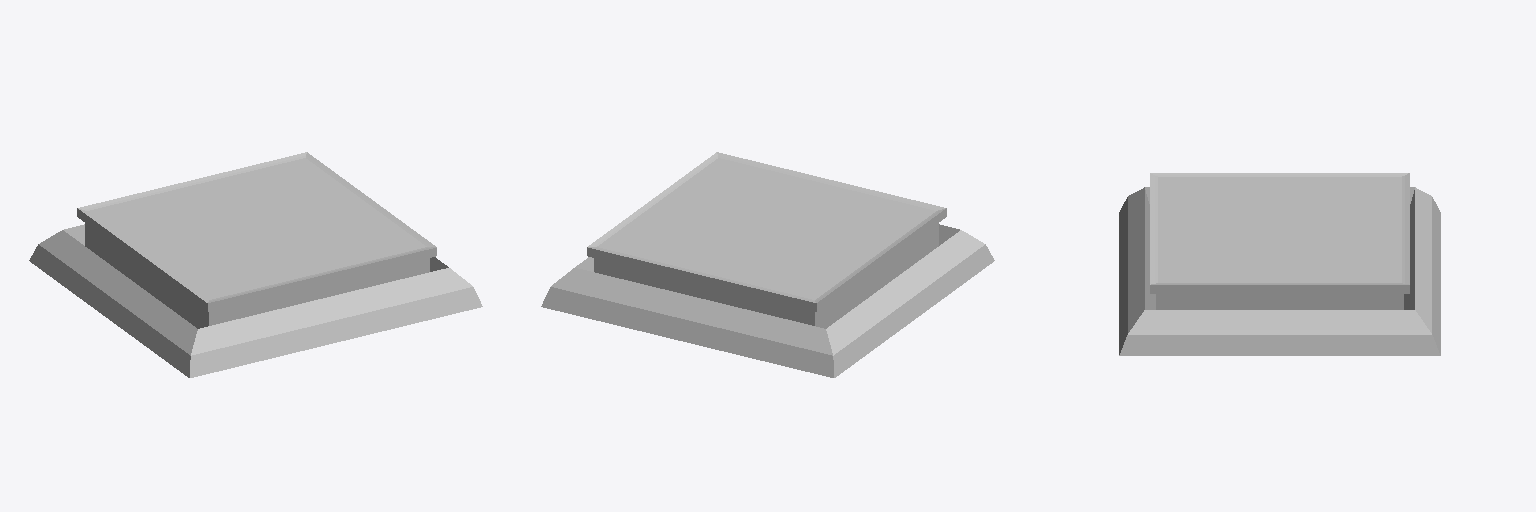
The model's file is rectangular_button_2.obj.
3 views of the same model, side by side, from view 1: azimuth 30°, elevation 25°; view 2: azimuth 150°, elevation 25°; view 3: azimuth 270°, elevation 25° (orthographic).
Visible parts, largest first — view 1: Box002, Box001; view 2: Box002, Box001; view 3: Box002, Box001.
Part boxes in pixels (x1,y1,x2,y2): Box002: (77,152,436,328); Box001: (29,224,482,377); Box002: (587,152,946,328); Box001: (541,224,994,377); Box002: (1150,173,1409,309); Box001: (1119,187,1440,355).
Size of the model in its own units: 30.55 by 5.56 by 28.97.